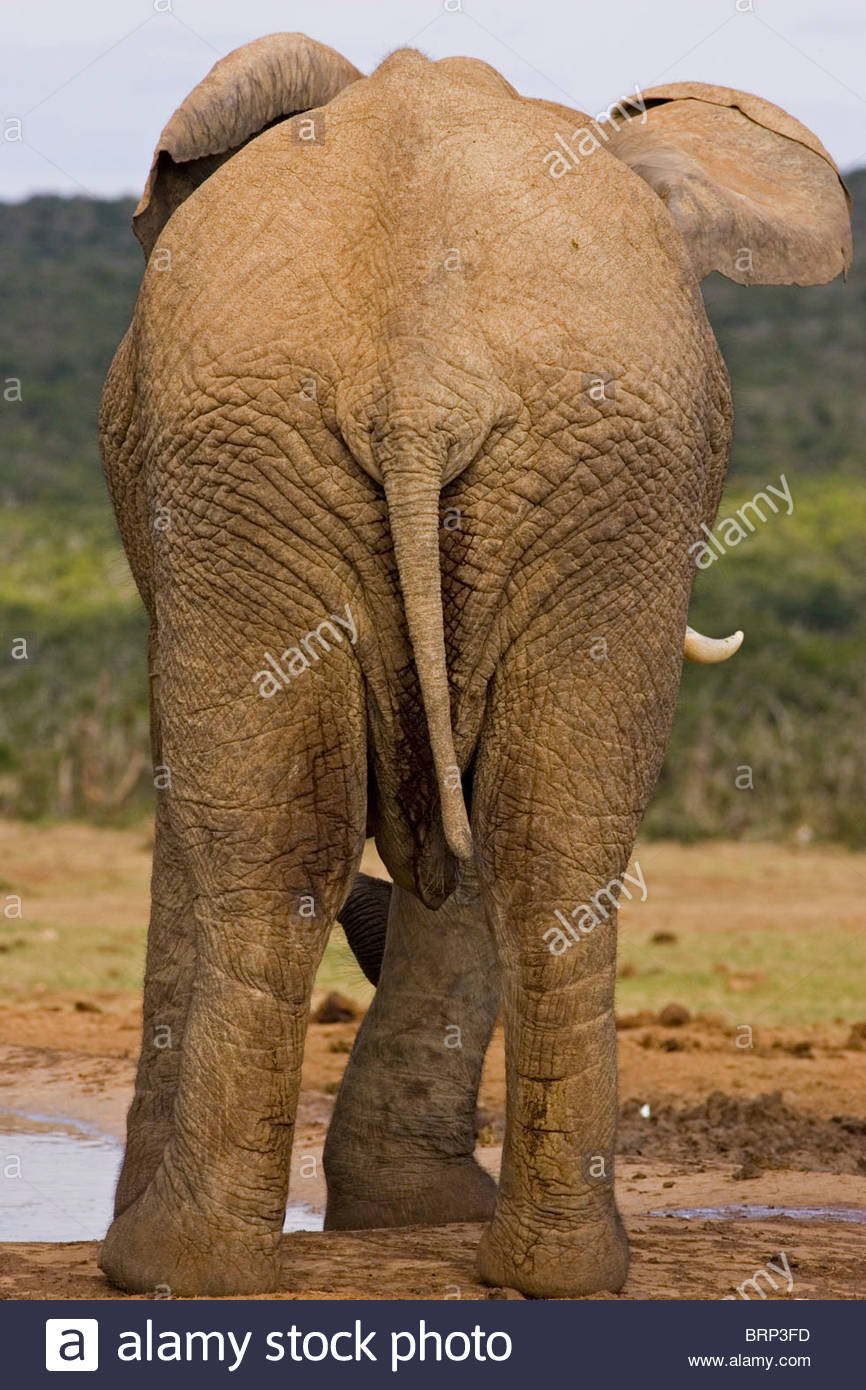elephant: (57, 40, 859, 1288)
